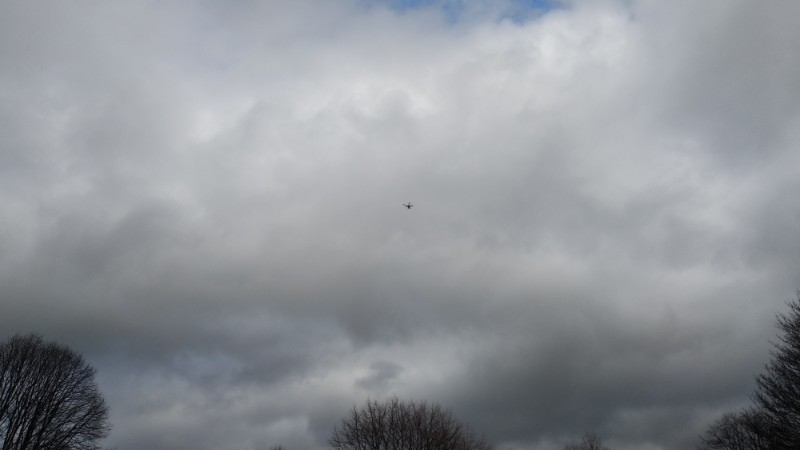drone: (405, 201, 414, 210)
